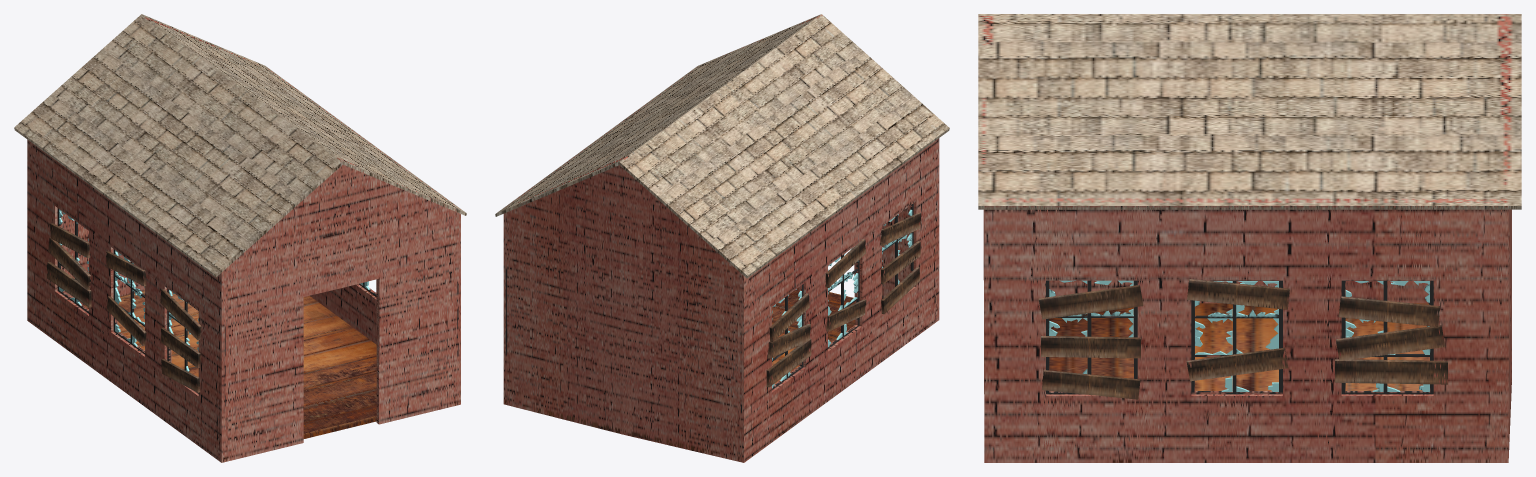
The model's file is House_Nicole.fbx.
3 views of the same model, side by side, from view 1: azimuth 30°, elevation 25°; view 2: azimuth 150°, elevation 25°; view 3: azimuth 270°, elevation 25° (orthographic). The views are drawn at different scales.
Visible parts, largest first — view 1: House; view 2: House; view 3: House.
Part boxes in pixels (box(x1,y1,x2,y2)): House: box(14, 14, 466, 462); House: box(495, 14, 949, 462); House: box(978, 14, 1521, 462).
Bounding box in the file's own units: 823 × 858 × 1142.
